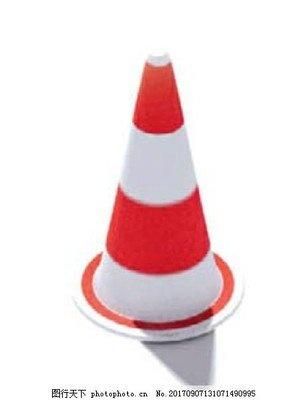cone_barrel: (86, 55, 229, 320)
